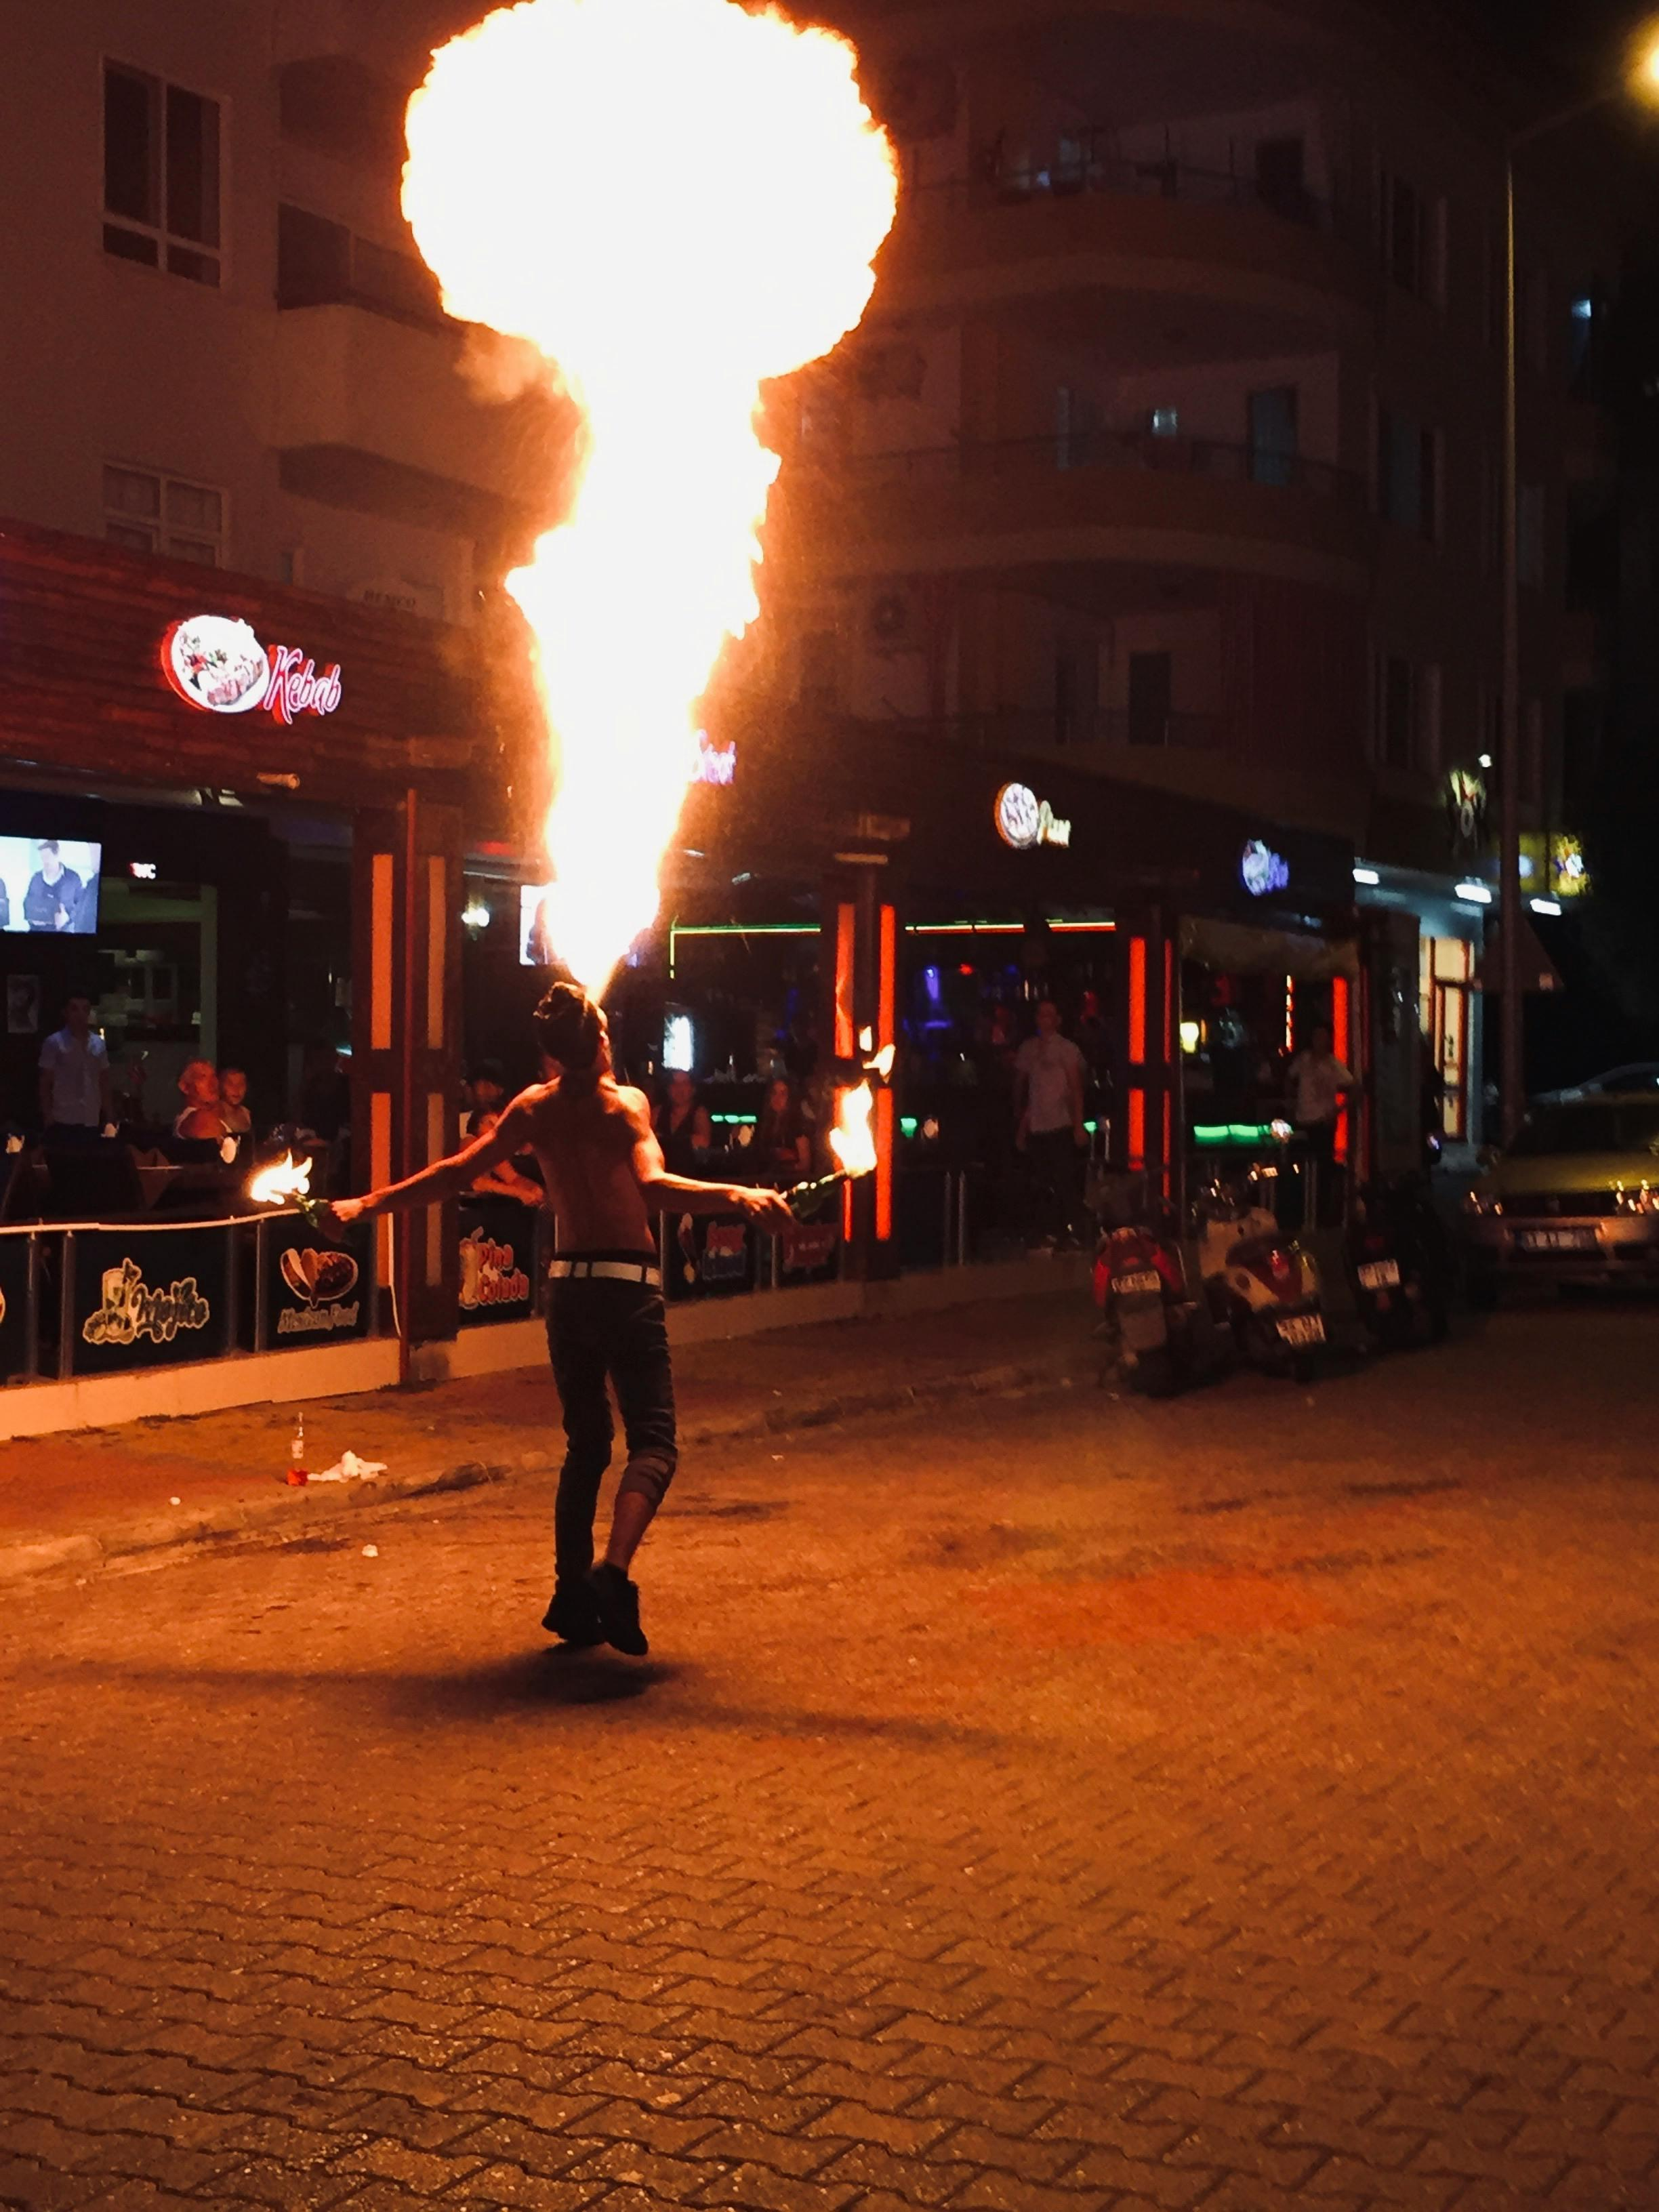Fire: (378, 0, 904, 1012), (817, 1078, 899, 1188), (237, 1143, 319, 1226)
